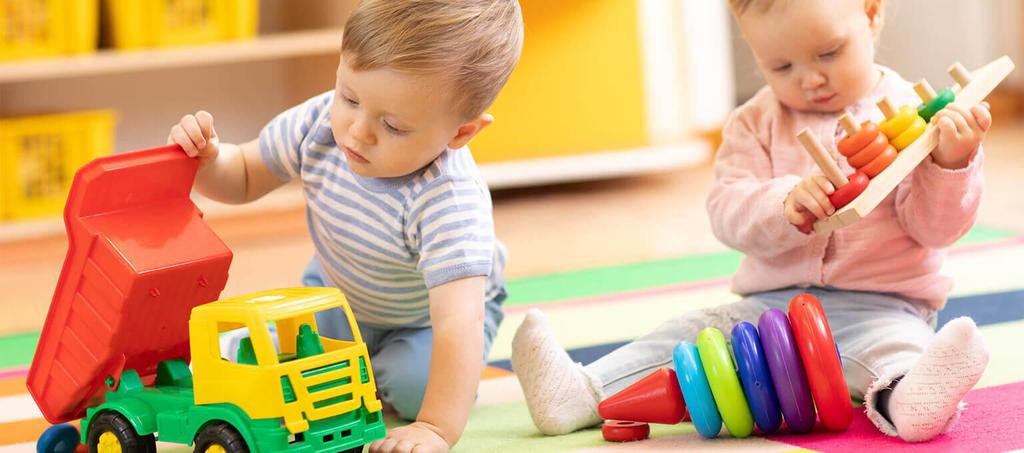child: (520, 1, 1017, 433), (183, 1, 520, 453)
